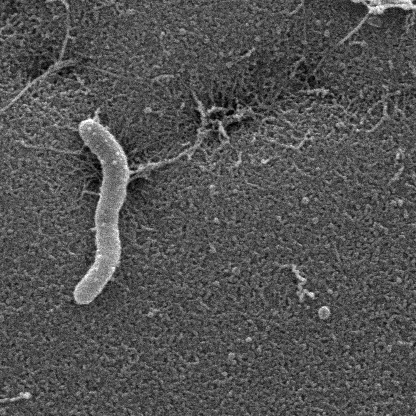cell2surface: (130, 116, 223, 185)
filament: (75, 120, 125, 303)
